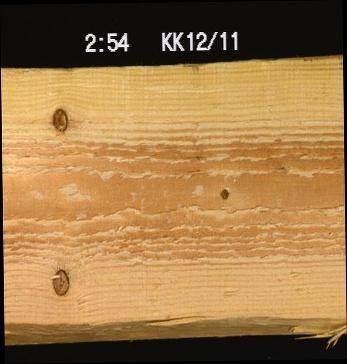dry_knot: (48, 266, 71, 297), (48, 105, 70, 132), (216, 185, 230, 202)
wave: (4, 311, 346, 341)
